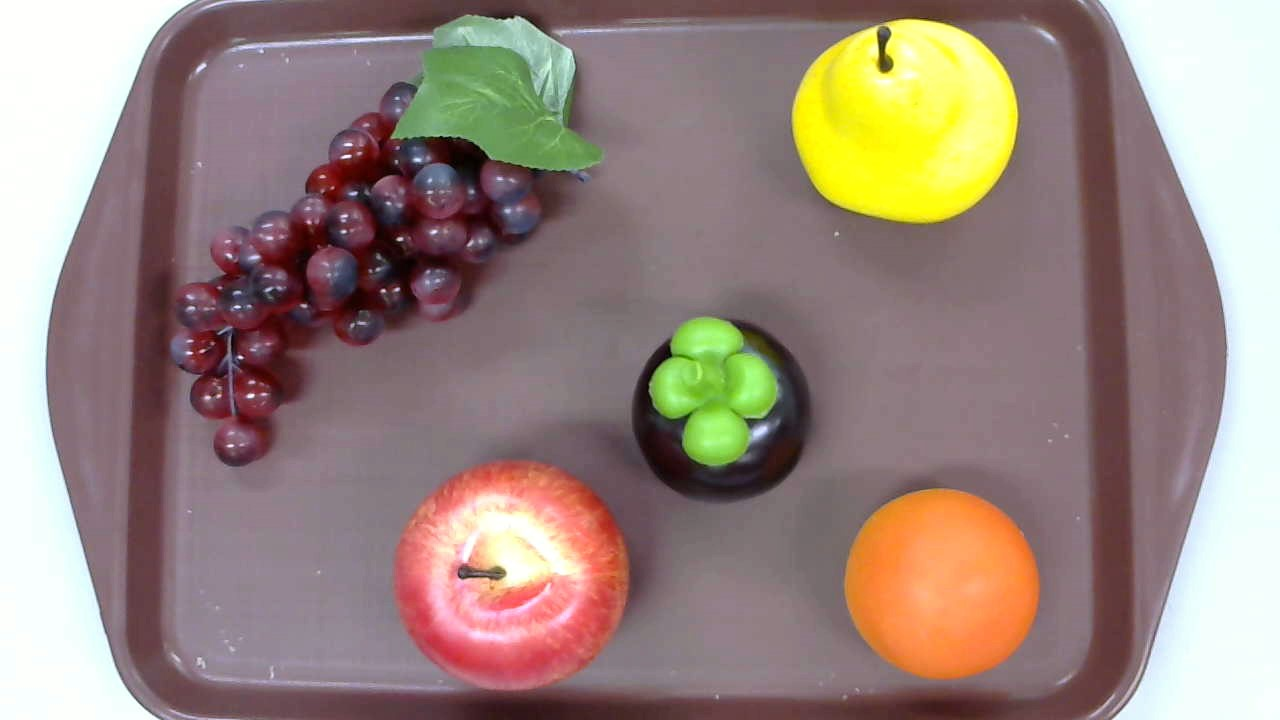bun: (844, 487, 1040, 680)
grape: (169, 12, 605, 466)
mangosteen: (630, 316, 812, 503)
red apple: (393, 459, 631, 690)
yellow pear: (790, 19, 1018, 223)
